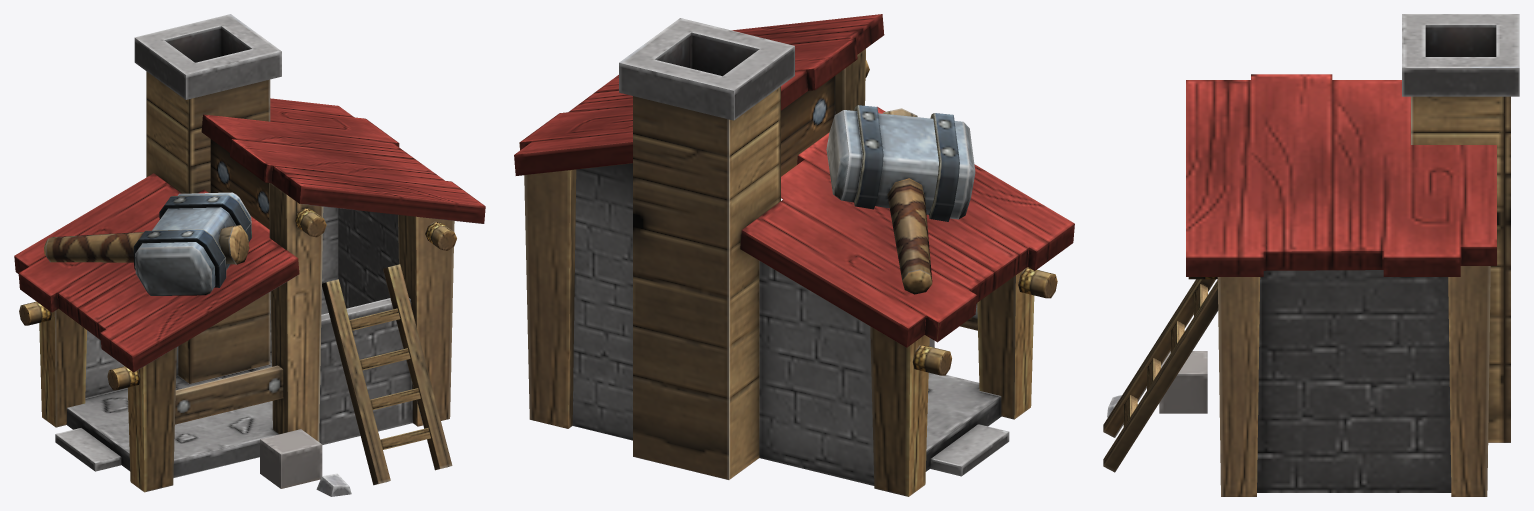
Rendered from C_BuilderHouse_Building.fbx.
The picture shows the model from 3 angles, left to right: view 1: azimuth 30°, elevation 25°; view 2: azimuth 150°, elevation 25°; view 3: azimuth 270°, elevation 25°; orthographic projection. The views are drawn at different scales.
Visible parts, largest first — view 1: BuilderHouse_2_mesh1; view 2: BuilderHouse_2_mesh1; view 3: BuilderHouse_2_mesh1.
Boxes of the visible parts, left/top/right/bottom form: BuilderHouse_2_mesh1: left=14, top=14, right=485, bottom=496; BuilderHouse_2_mesh1: left=514, top=14, right=1074, bottom=496; BuilderHouse_2_mesh1: left=1103, top=14, right=1519, bottom=496.
Bounding box in the file's own units: 58.05 × 53.01 × 52.29.
